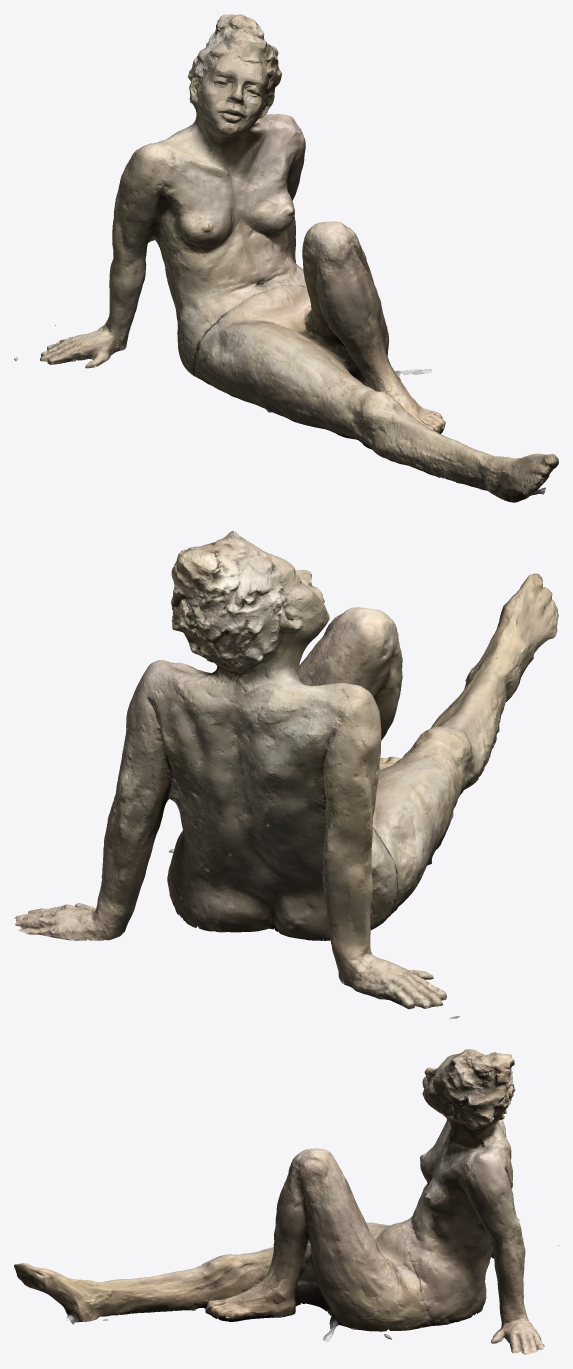
File: preview.glb
3 renders of one model, top to bottom at view 1: azimuth 30°, elevation 25°; view 2: azimuth 150°, elevation 25°; view 3: azimuth 270°, elevation 25°, orthographic. The views are drawn at different scales.
Size of the model in its own units: 0.7265 by 0.6216 by 1.23.
Materials: 1 (1 with a texture image).
